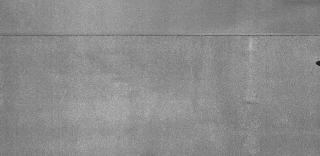punching hole: (314, 59, 320, 67)
welding line: (1, 29, 320, 41)
